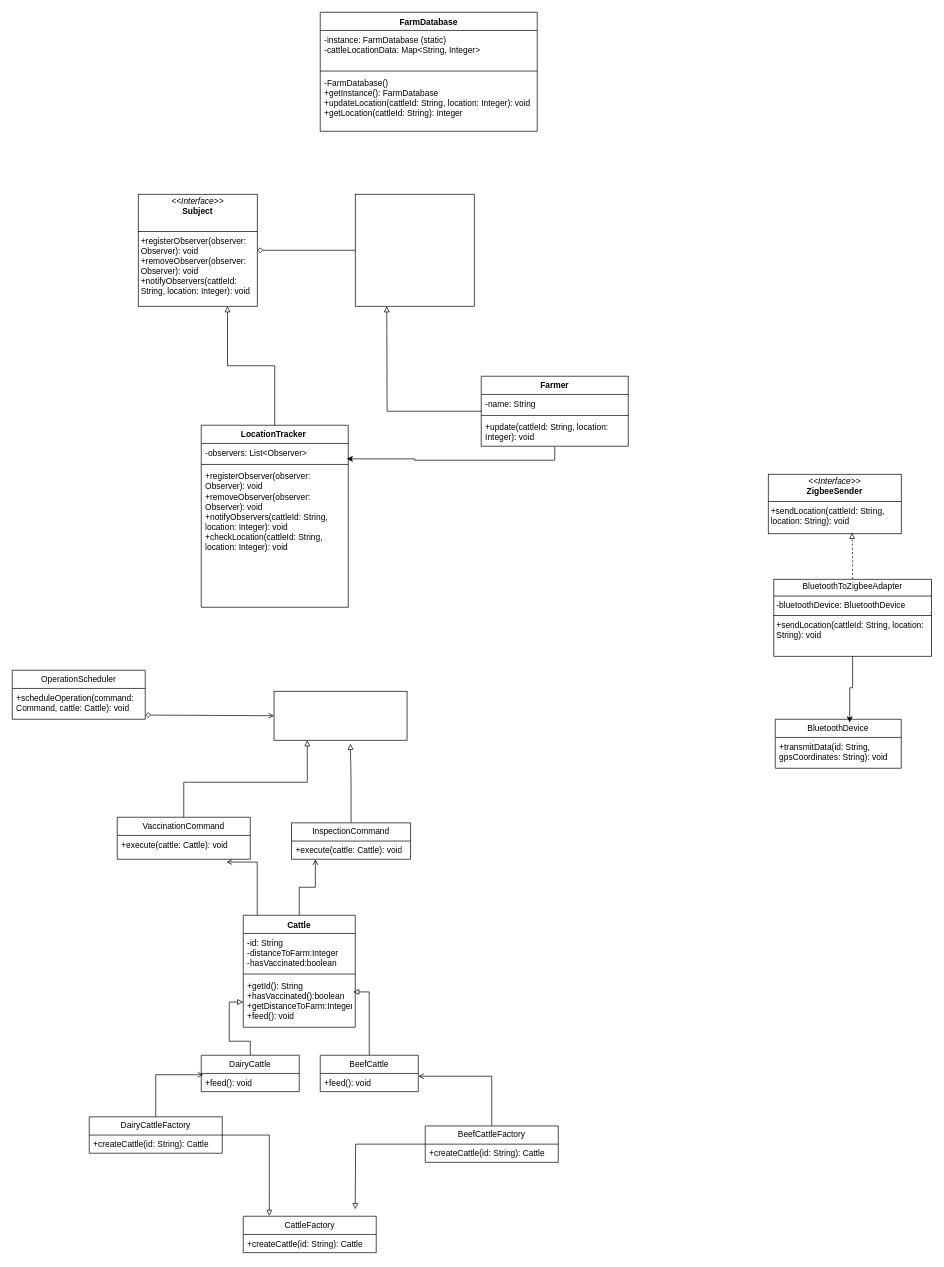
Some shapes in this 944 by 1267 pixel diagram are drawn without their labels. Here are the shapes that lost their labels. From the top down, the centre of each, then its label:
point 414,250: <<Interface>> Observer +update(cattleId: String, location: Integer): void
point 340,715: <<Interface>> Command +execute(cattle: Cattle): void
